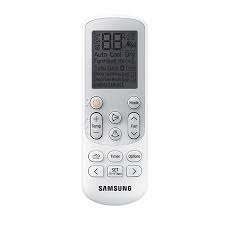remote control: (76, 17, 152, 208)
